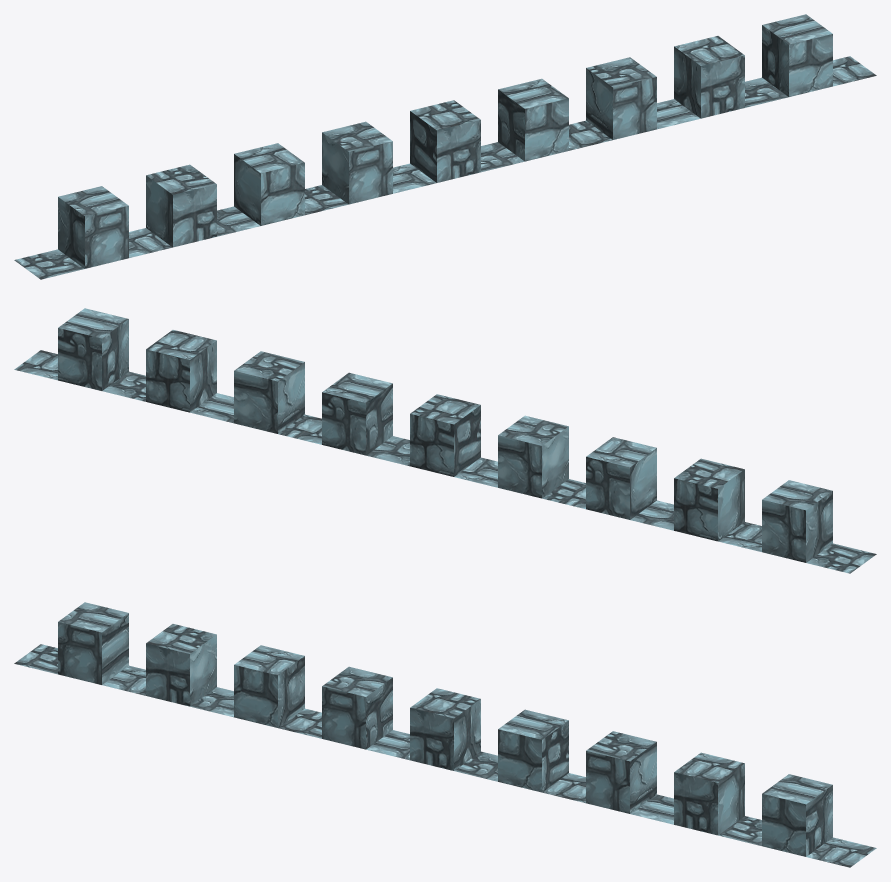
File: fence_small.obj
3 renders of one model, top to bottom at view 1: azimuth 30°, elevation 25°; view 2: azimuth 150°, elevation 25°; view 3: azimuth 330°, elevation 25°, orthographic.
Visible parts, largest first — view 1: Plane.005; view 2: Plane.005; view 3: Plane.005.
Boxes of the visible parts, box(x1,y1,x2,y2) form: Plane.005: box(14, 14, 876, 279); Plane.005: box(14, 308, 876, 573); Plane.005: box(14, 602, 876, 867).
Bounding box in the file's own units: 10.42 × 0.6266 × 0.5802.
Materials: 1 (1 with a texture image).
